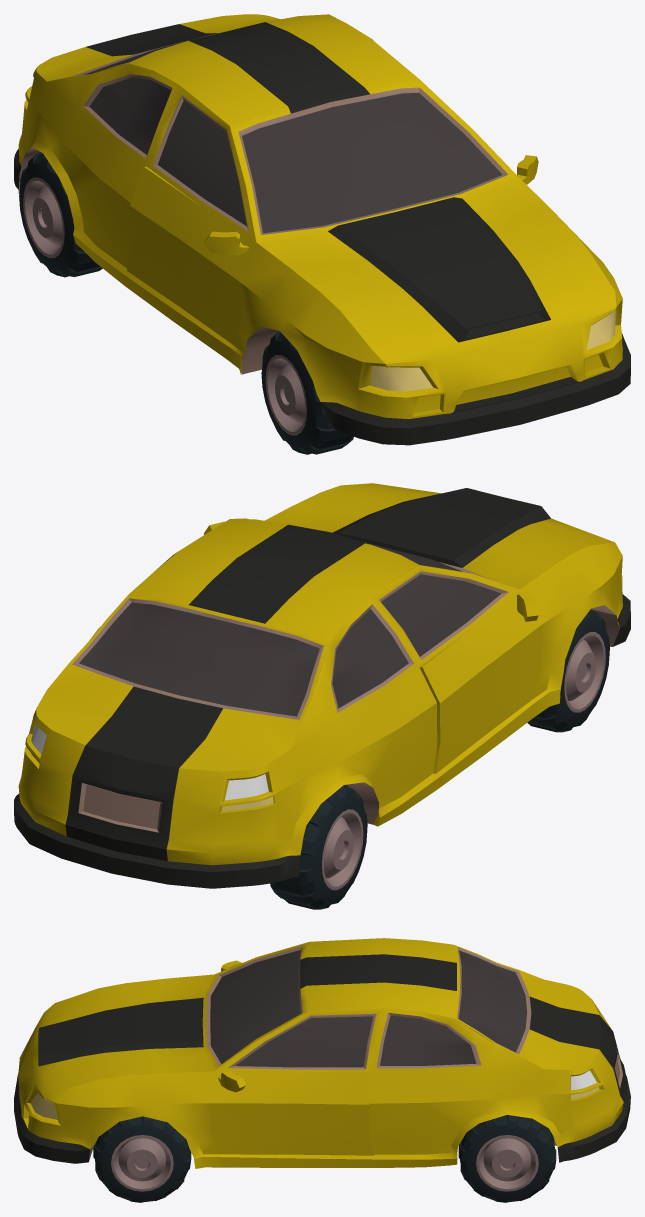
Rendered from q-sports-car-gzj704dxdr.glb.
3 views of the same model, one above another, from view 1: azimuth 30°, elevation 25°; view 2: azimuth 150°, elevation 25°; view 3: azimuth 270°, elevation 25° (orthographic). The views are drawn at different scales.
Parts seen in each view (by area): view 1: Sports, FrontWheel_R, BackWheels; view 2: Sports, BackWheels, FrontWheel_R; view 3: Sports, BackWheels, FrontWheel_L.
Boxes of the visible parts, box(x1,y1,x2,y2) form: Sports: box(14, 14, 630, 445); FrontWheel_R: box(261, 331, 353, 454); BackWheels: box(19, 152, 102, 277); Sports: box(14, 483, 630, 888); BackWheels: box(270, 784, 367, 909); FrontWheel_R: box(527, 609, 609, 732); Sports: box(14, 938, 630, 1168); BackWheels: box(458, 1115, 556, 1202); FrontWheel_L: box(93, 1116, 191, 1202).
Bounding box in the file's own units: 2.67 × 1.86 × 5.66.
Materials: 3 (1 with a texture image).
